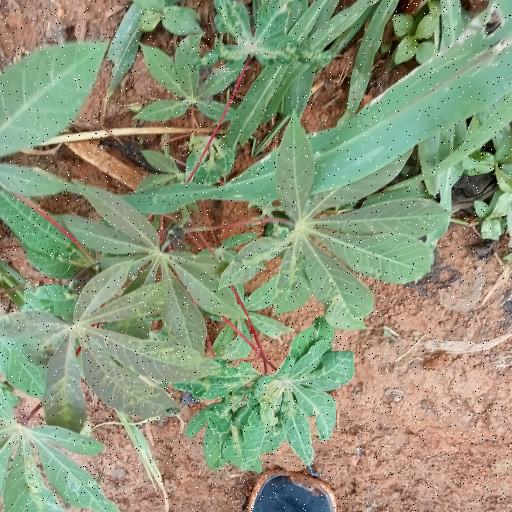Cassava_Mosaic: (229, 130, 435, 315), (23, 261, 209, 431), (207, 328, 365, 458), (190, 0, 350, 87)
